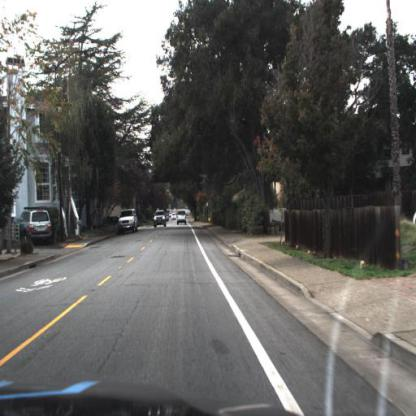car: (16, 206, 54, 246), (117, 208, 140, 238), (119, 207, 138, 231), (153, 207, 169, 231), (175, 208, 189, 231), (175, 211, 189, 228)
